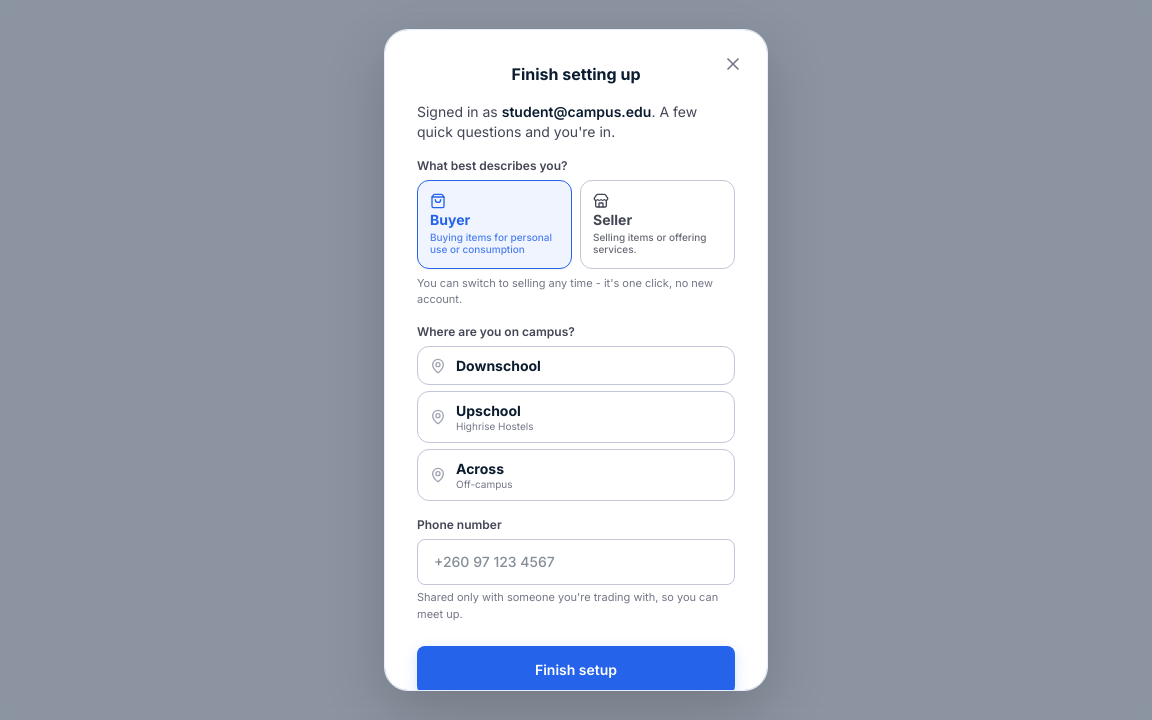
Scenario: registration requires a phone number › refuses a number that is too short to be one
Expected: the text "few quick questions" is shown, x1=417 y1=103 x2=697 y2=140
Click the button "Downschool" at (498, 365), box x1=417 y1=346 x2=735 y2=385
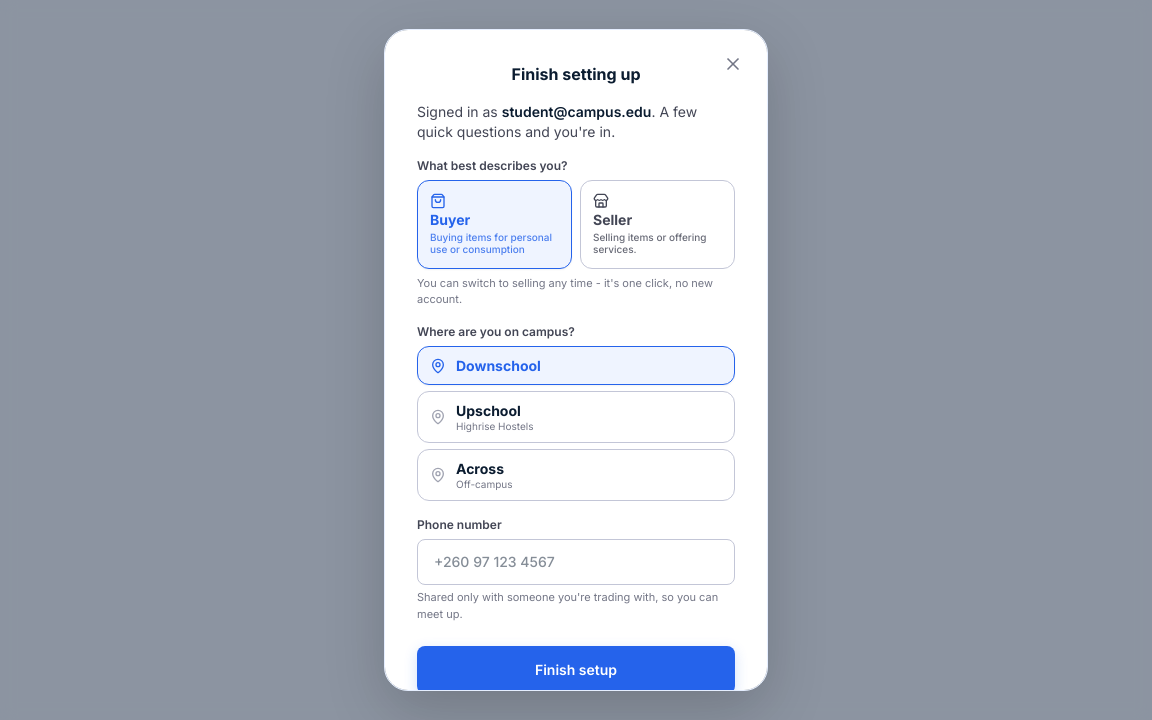
Type "0971" into the field with placeholder "+260 97 123 4567" at (576, 562), box x1=417 y1=539 x2=735 y2=585
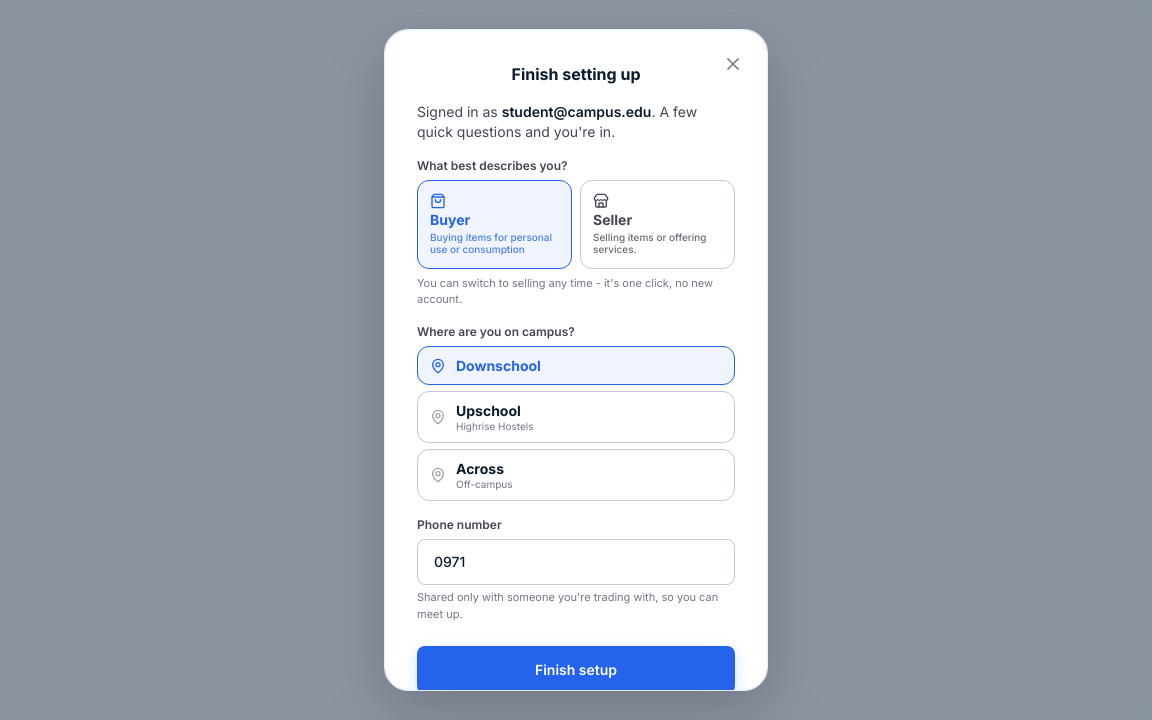
Click the button "Finish setup" at (576, 670), box x1=417 y1=646 x2=735 y2=694
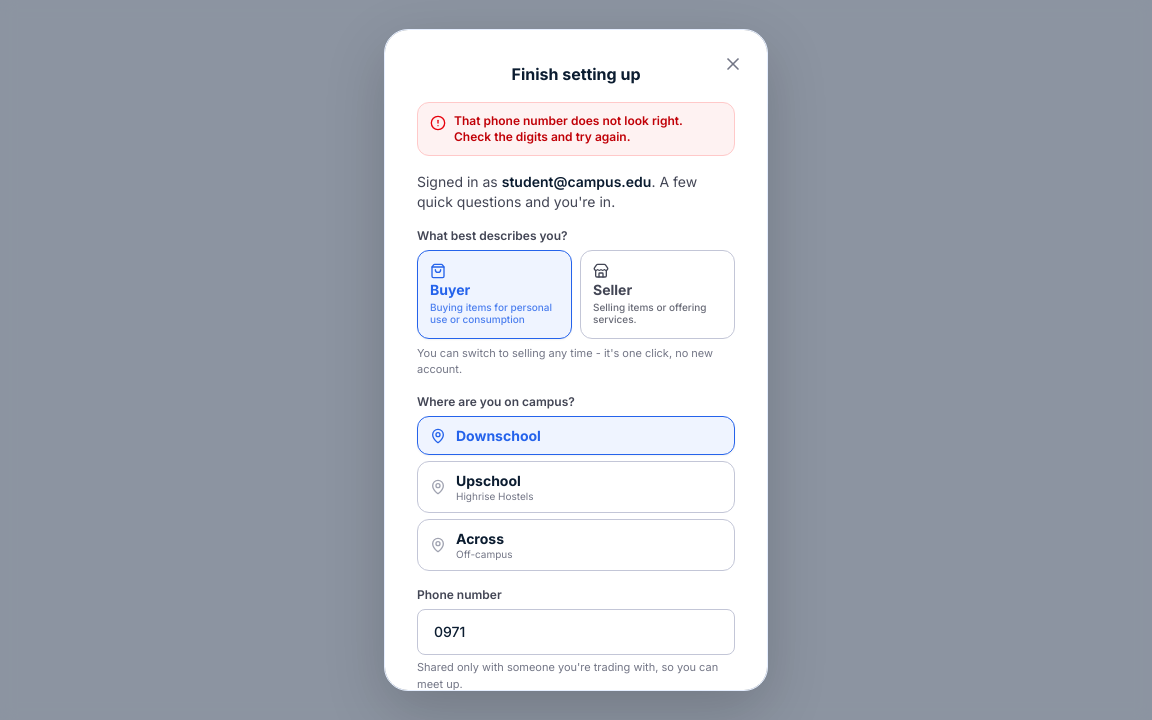
Expected: the text "does not look right" is shown, x1=454 y1=113 x2=683 y2=144
